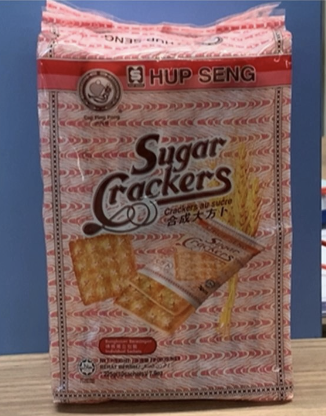crackers_150g: (61, 57, 274, 383)
